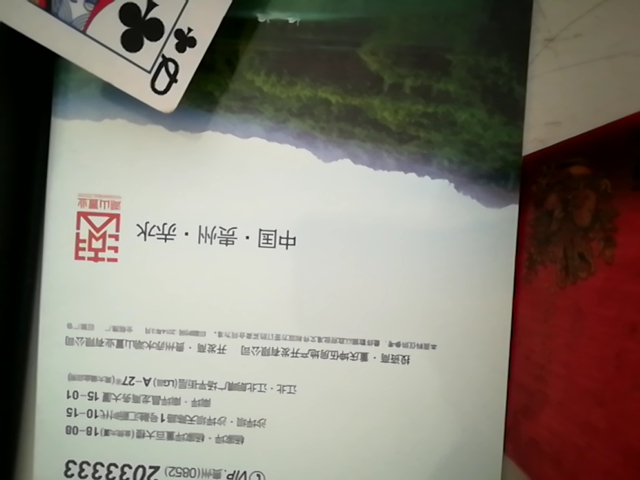mh q: (21, 8, 273, 149)
